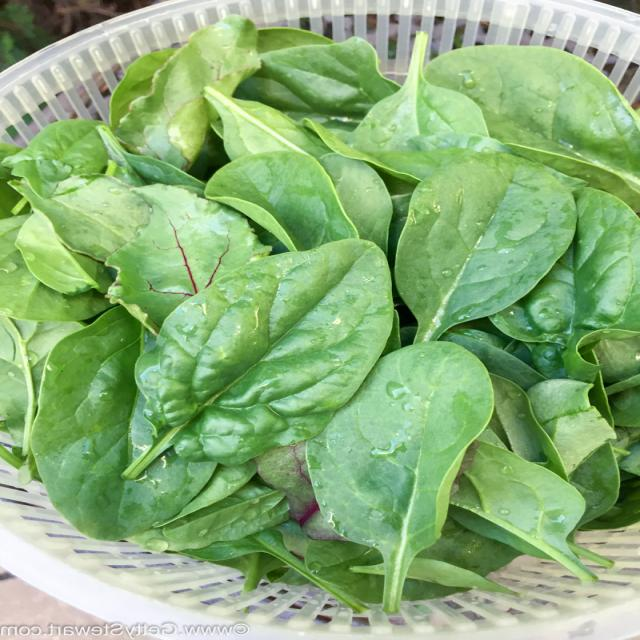spinach: (1, 16, 640, 611)
